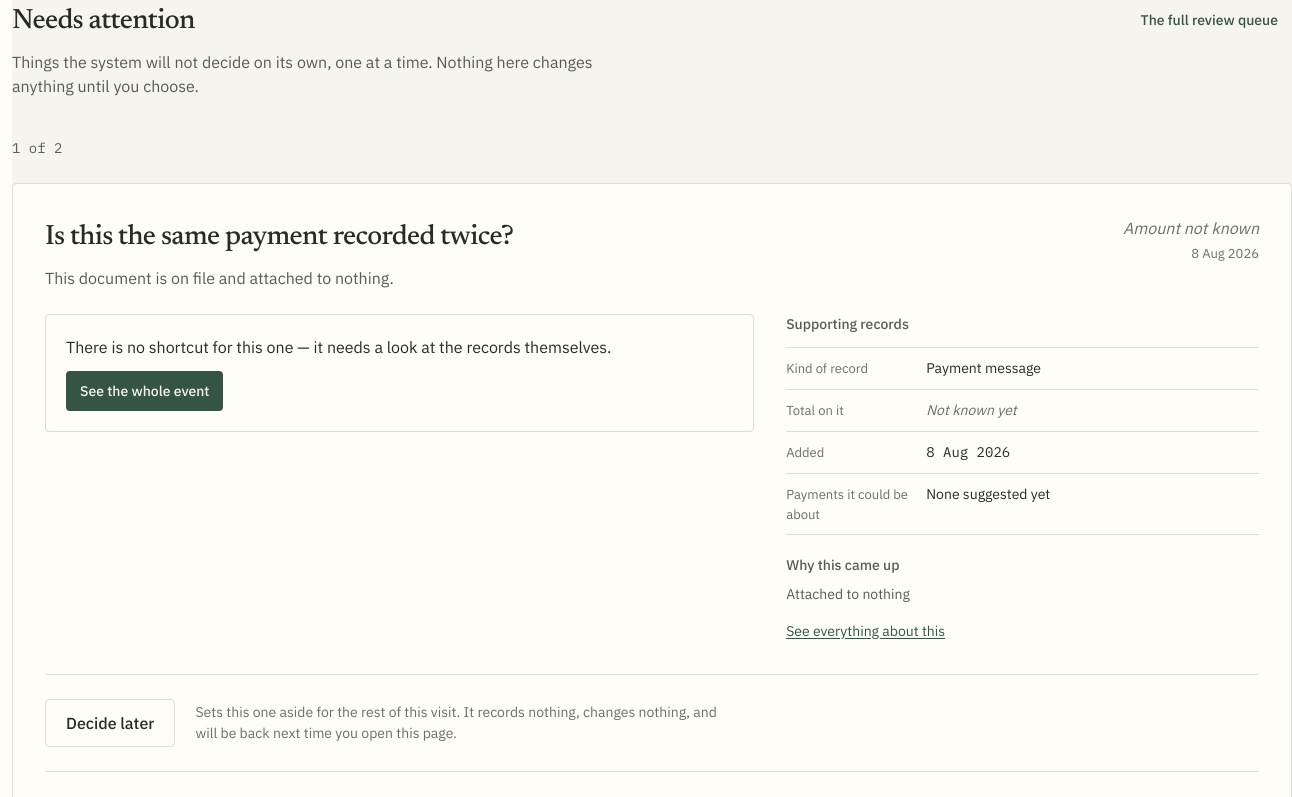
Test: one question at a time › a payment that may be the same money as another › lets the check be set aside without writing anything, and moves on to the category
Expected: the heading "Is this the same payment recorded twice?" is shown, [45, 216, 513, 258]
Step 1. Click the button "Decide later" → (110, 723), box [45, 699, 175, 747]
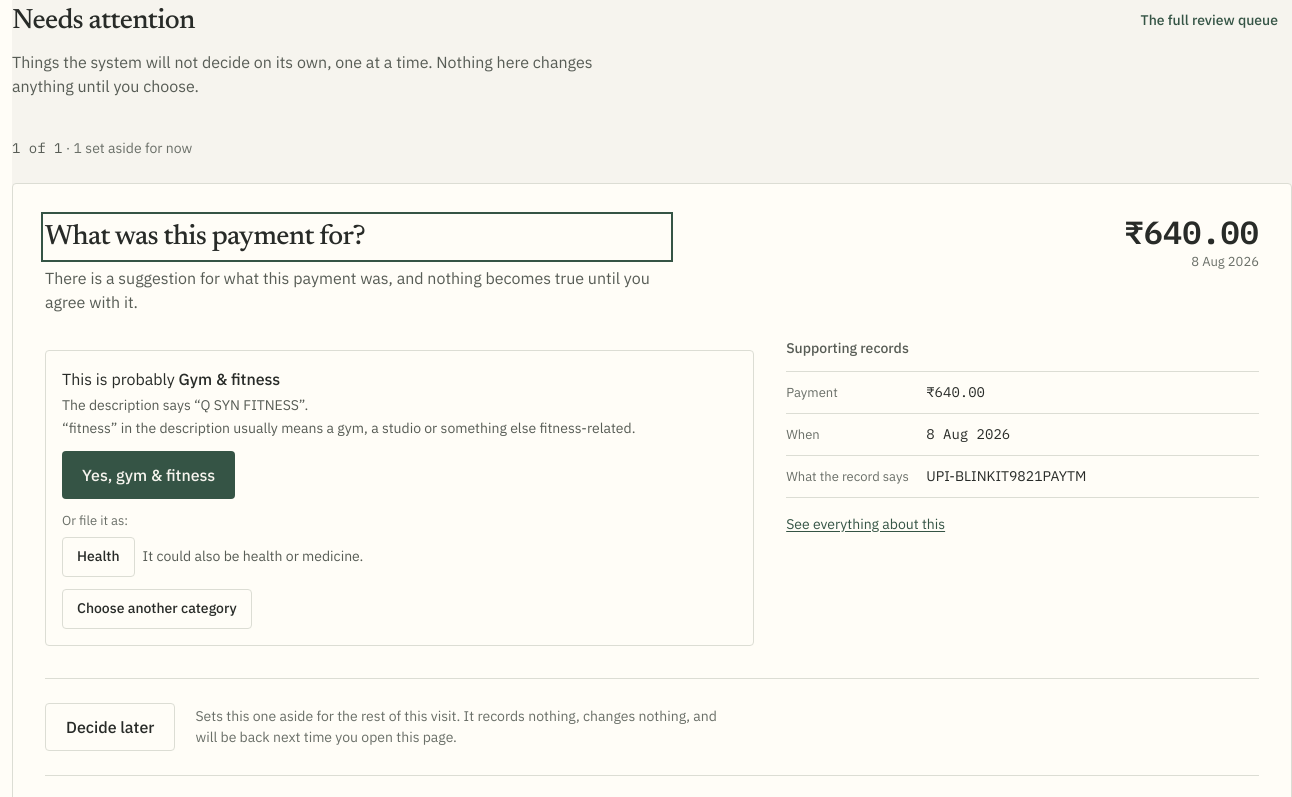
Expected: the heading "What was this payment for?" is shown, [45, 223, 365, 251]
